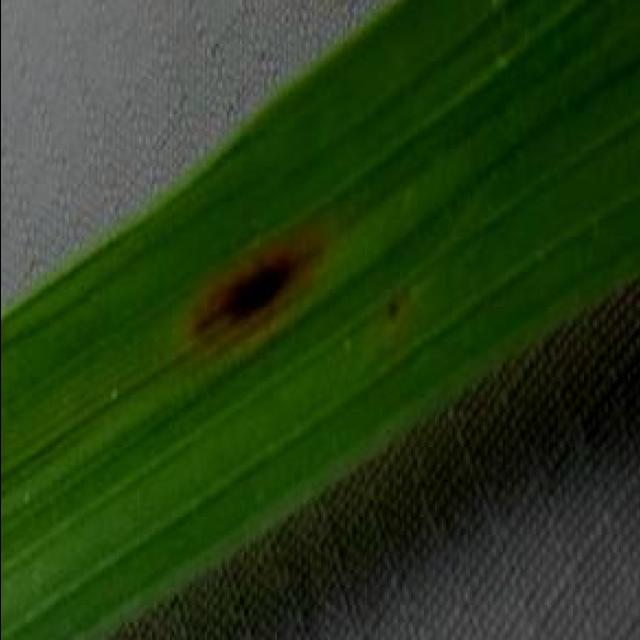Brown_Spot: (169, 204, 333, 370), (371, 278, 404, 336)
